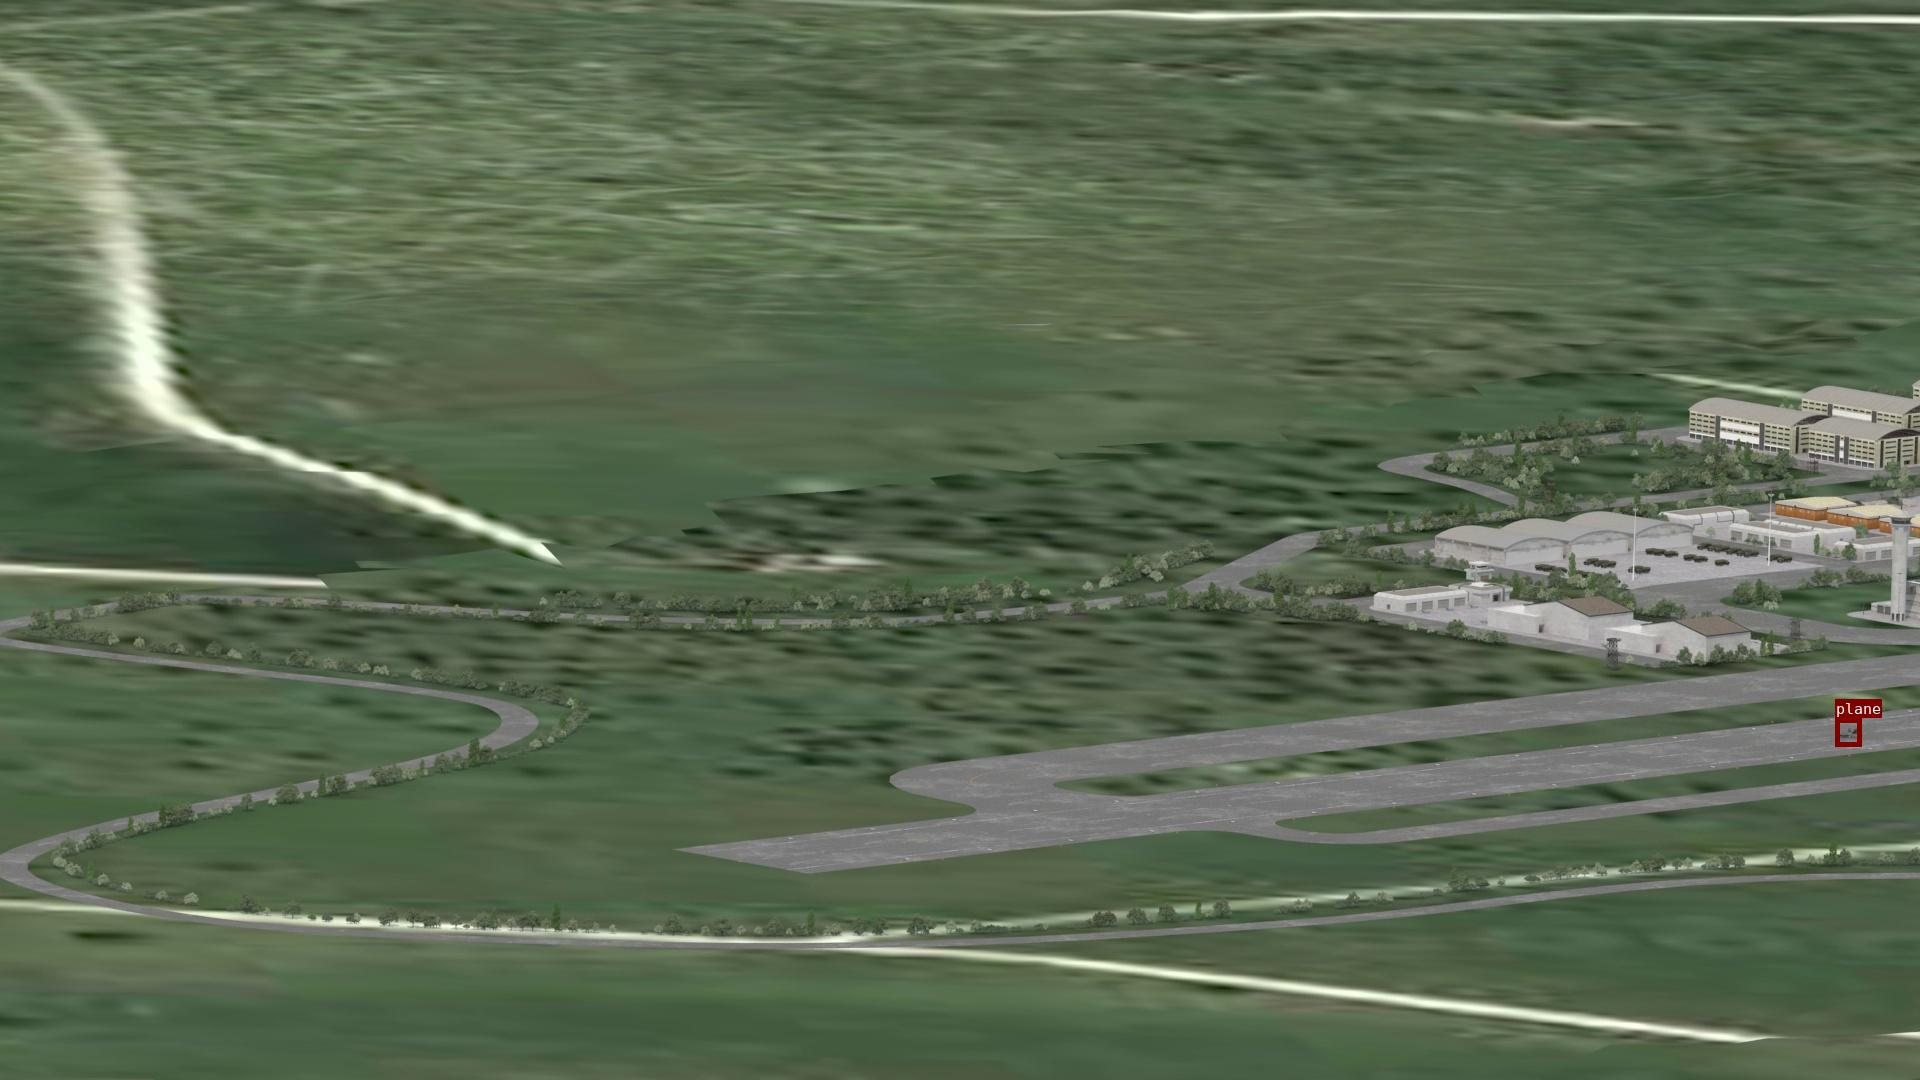plane: (1836, 717, 1861, 746)
